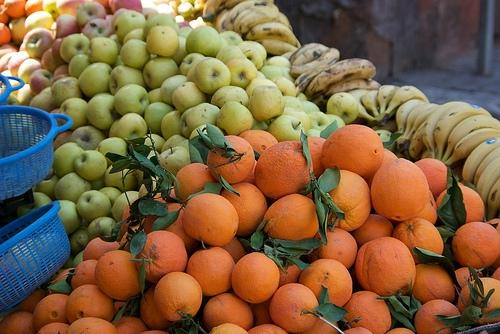apple: (248, 85, 286, 121), (194, 58, 231, 94), (216, 102, 254, 136), (158, 146, 191, 185), (85, 94, 120, 130), (78, 61, 112, 98), (108, 63, 146, 96), (54, 172, 91, 205), (113, 83, 150, 116), (185, 25, 222, 58), (112, 10, 146, 44), (326, 91, 360, 125), (76, 190, 111, 223), (143, 56, 179, 88), (265, 114, 306, 142), (53, 142, 84, 178), (225, 57, 258, 90), (172, 82, 206, 114), (22, 27, 56, 59), (116, 112, 148, 146), (144, 102, 174, 138), (146, 25, 179, 57), (74, 150, 108, 181), (185, 102, 220, 132), (98, 136, 128, 170), (104, 164, 139, 193), (156, 36, 188, 67), (143, 14, 180, 40), (58, 98, 88, 130), (52, 76, 82, 108), (86, 36, 118, 66), (211, 85, 250, 109), (120, 38, 151, 68), (17, 192, 52, 218), (60, 33, 90, 63), (88, 216, 122, 242), (160, 74, 187, 106), (112, 190, 139, 222), (58, 200, 82, 235), (75, 2, 106, 29), (70, 126, 104, 150), (160, 110, 186, 141), (50, 14, 81, 40), (282, 108, 310, 136), (186, 56, 213, 84), (245, 78, 279, 100), (82, 18, 116, 40), (29, 69, 54, 97), (36, 174, 61, 202), (18, 58, 44, 84), (110, 8, 137, 33), (98, 187, 122, 215), (68, 53, 93, 79), (216, 45, 250, 64), (237, 40, 267, 61), (24, 11, 54, 32), (7, 51, 31, 77), (180, 53, 207, 76), (70, 226, 90, 257), (136, 134, 166, 154), (270, 77, 296, 98), (9, 16, 27, 46), (50, 38, 68, 67), (56, 0, 86, 17), (242, 47, 264, 70), (161, 134, 187, 153), (0, 0, 27, 18), (374, 130, 396, 152), (30, 94, 56, 112), (308, 111, 331, 131), (54, 130, 74, 152), (17, 84, 36, 107), (42, 48, 58, 75), (258, 65, 286, 80), (112, 0, 143, 13), (220, 30, 244, 46), (42, 0, 60, 21), (0, 52, 18, 73), (123, 28, 146, 44), (109, 33, 124, 56), (156, 4, 178, 19), (0, 43, 19, 60), (266, 56, 291, 68), (283, 96, 304, 110), (178, 2, 196, 18), (326, 114, 346, 128), (48, 107, 62, 127), (109, 117, 122, 138), (148, 88, 164, 104), (302, 100, 320, 114), (0, 22, 11, 44), (52, 64, 68, 79), (250, 118, 268, 131), (72, 249, 84, 268), (282, 67, 296, 83), (142, 7, 159, 20), (176, 138, 189, 152), (178, 26, 193, 38), (188, 20, 207, 29), (132, 169, 144, 182), (6, 94, 20, 105), (147, 150, 160, 160)
banana: (434, 102, 493, 160), (305, 58, 377, 102), (441, 114, 500, 162), (424, 102, 470, 159), (443, 128, 500, 166), (311, 78, 382, 107), (380, 86, 430, 126), (463, 138, 500, 184), (237, 10, 294, 39), (476, 156, 500, 220), (289, 48, 340, 78), (246, 22, 302, 49), (405, 104, 442, 140), (402, 102, 438, 138), (229, 0, 279, 24), (234, 5, 278, 32), (295, 64, 332, 96), (395, 98, 427, 132), (474, 147, 500, 187), (348, 88, 376, 123), (252, 38, 299, 56), (289, 43, 326, 65), (409, 119, 427, 160), (377, 84, 400, 114), (487, 176, 500, 220), (362, 89, 380, 116), (210, 0, 226, 13)
orange: (130, 230, 188, 305), (355, 236, 416, 297), (371, 159, 430, 222), (254, 140, 314, 200), (321, 124, 384, 179), (182, 193, 238, 246), (327, 170, 372, 232), (298, 258, 353, 308), (144, 203, 199, 251), (263, 194, 319, 241), (230, 252, 280, 304), (220, 182, 268, 236), (186, 246, 236, 296), (269, 283, 319, 333), (392, 217, 444, 265), (154, 272, 203, 322), (452, 222, 500, 270), (207, 136, 254, 184), (94, 250, 139, 300), (342, 291, 392, 334), (308, 227, 358, 269), (386, 189, 438, 229), (458, 278, 500, 326), (65, 284, 115, 324), (203, 293, 254, 332), (436, 185, 485, 225), (174, 162, 220, 204), (140, 284, 178, 334), (412, 262, 456, 304), (414, 299, 460, 334), (32, 294, 72, 332), (364, 148, 398, 192), (352, 214, 394, 248), (414, 158, 448, 196), (298, 136, 326, 180), (82, 236, 121, 262), (239, 130, 278, 154), (65, 316, 118, 333), (250, 294, 276, 328), (0, 311, 38, 334), (292, 316, 340, 334), (220, 236, 249, 264), (72, 260, 99, 290), (48, 268, 76, 296), (18, 288, 48, 314), (110, 316, 150, 334), (340, 316, 373, 333), (455, 268, 483, 288), (278, 264, 301, 288), (121, 226, 140, 252), (209, 323, 250, 334), (247, 323, 287, 334), (37, 322, 70, 334), (113, 301, 131, 317), (485, 218, 500, 234), (386, 328, 415, 334), (139, 330, 170, 334), (154, 193, 166, 203), (492, 266, 500, 280)
